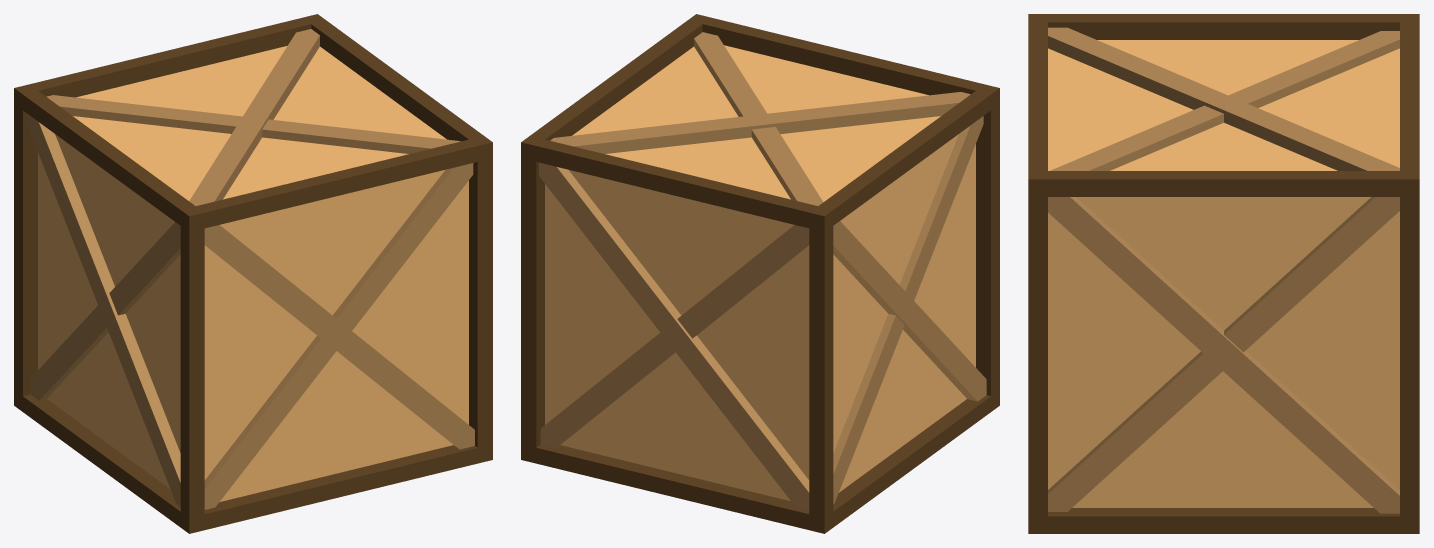
Rendered from Crate_LOD1.fbx.
3 views of the same model, side by side, from view 1: azimuth 30°, elevation 25°; view 2: azimuth 150°, elevation 25°; view 3: azimuth 270°, elevation 25° (orthographic). The views are drawn at different scales.
Visible parts, largest first — view 1: Lod1; view 2: Lod1; view 3: Lod1.
Part boxes in pixels (left/top/right/bottom): Lod1: left=14, top=14, right=492, bottom=533; Lod1: left=521, top=14, right=999, bottom=533; Lod1: left=1028, top=14, right=1419, bottom=533.
Size of the model in its own units: 200 by 200 by 200.
